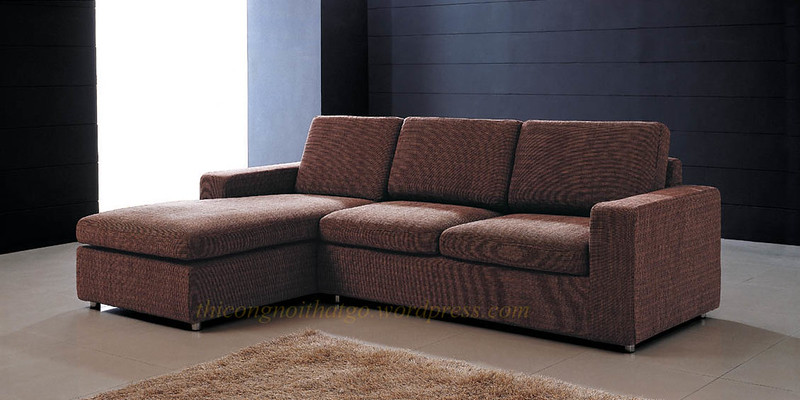sofa: (54, 43, 735, 358)
